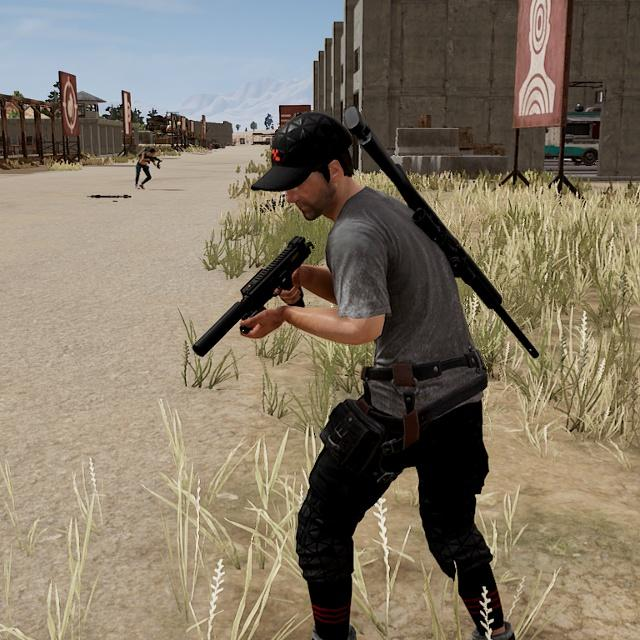head: (268, 109, 354, 225), (148, 147, 156, 157)
people: (266, 106, 518, 640), (132, 146, 157, 192)
